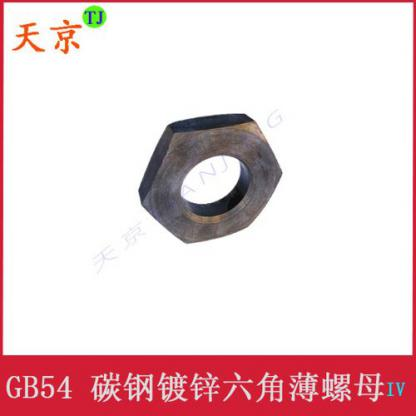FOD: (134, 108, 288, 248)
